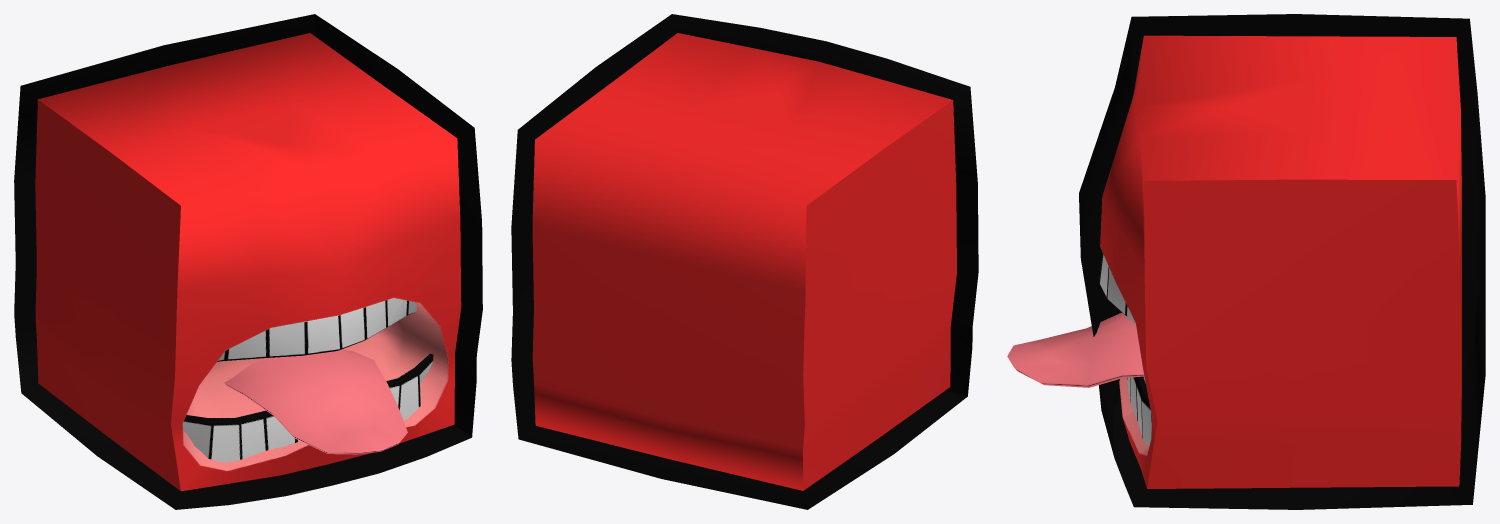
The model's file is Enemy_box.fbx.
3 views of the same model, side by side, from view 1: azimuth 30°, elevation 25°; view 2: azimuth 150°, elevation 25°; view 3: azimuth 270°, elevation 25° (orthographic). The views are drawn at different scales.
Parts seen in each view (by area): view 1: Body_low, Body_outline, Tong_low, Teeth_low; view 2: Body_low, Body_outline; view 3: Body_low, Body_outline, Tong_low, Teeth_low.
Boxes of the visible parts, box(x1,y1,x2,y2) form: Body_low: box(35, 33, 461, 491); Body_outline: box(14, 14, 482, 509); Tong_low: box(224, 349, 407, 454); Teeth_low: box(183, 298, 433, 462); Body_low: box(532, 33, 956, 490); Body_outline: box(511, 14, 978, 509); Body_low: box(1100, 35, 1461, 488); Body_outline: box(1079, 14, 1485, 509); Tong_low: box(1007, 312, 1144, 387); Teeth_low: box(1099, 253, 1151, 446).
Size of the model in its own units: 33.28 by 33.05 by 40.49.
4 materials, 3 textured.
